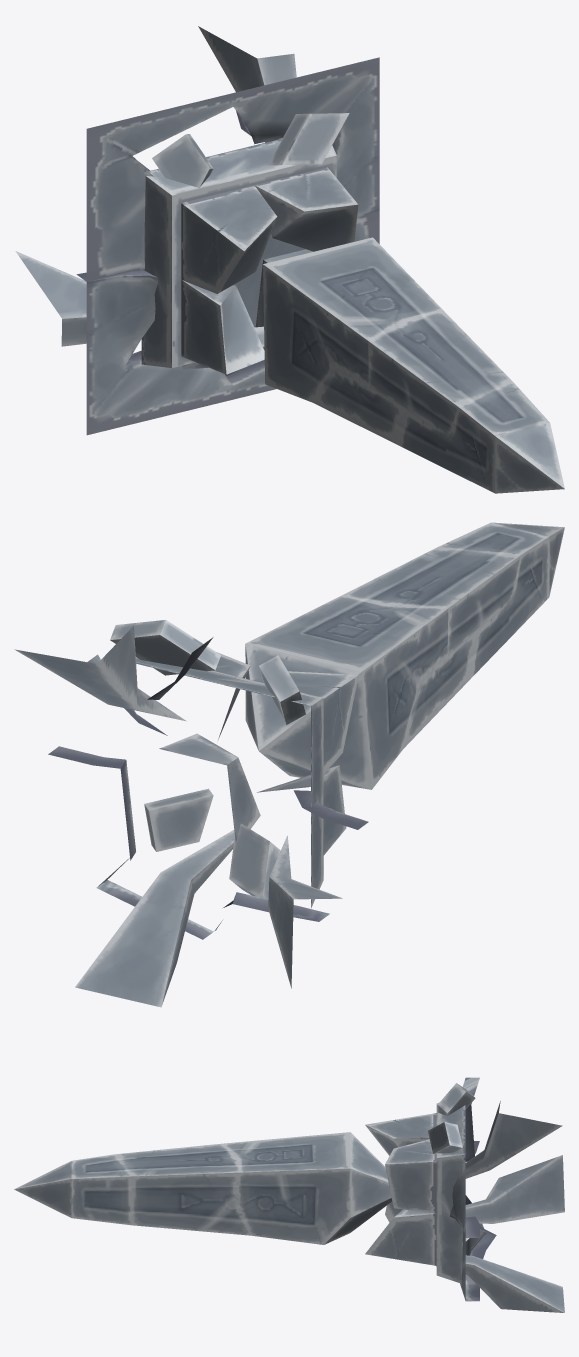
The model's file is obelisk_02.glb.
3 views of the same model, one above another, from view 1: azimuth 30°, elevation 25°; view 2: azimuth 150°, elevation 25°; view 3: azimuth 270°, elevation 25° (orthographic). The views are drawn at different scales.
Visible parts, largest first — view 1: obsidian_obelisk.obelisk_base-MeshSets[ground_broken].Mesh[0, obsidian_obelisk.obelisk-MeshNodes["obelisk"], obsidian_obelisk.obelisk_base-MeshSets[obelisk_base].Mesh[0]; view 2: obsidian_obelisk.obelisk-MeshNodes["obelisk"], obsidian_obelisk.obelisk_base-MeshSets[ground_broken].Mesh[0, obsidian_obelisk.obelisk_base-MeshSets[obelisk_base].Mesh[0]; view 3: obsidian_obelisk.obelisk-MeshNodes["obelisk"], obsidian_obelisk.obelisk_base-MeshSets[ground_broken].Mesh[0, obsidian_obelisk.obelisk_base-MeshSets[obelisk_base].Mesh[0].
Boxes of the visible parts, box(x1,y1,x2,y2) form: obsidian_obelisk.obelisk_base-MeshSets[ground_broken].Mesh[0: box(15, 26, 379, 435); obsidian_obelisk.obelisk-MeshNodes["obelisk"]: box(263, 237, 564, 493); obsidian_obelisk.obelisk_base-MeshSets[obelisk_base].Mesh[0]: box(141, 138, 358, 374); obsidian_obelisk.obelisk-MeshNodes["obelisk"]: box(245, 522, 564, 789); obsidian_obelisk.obelisk_base-MeshSets[ground_broken].Mesh[0: box(14, 620, 368, 1007); obsidian_obelisk.obelisk_base-MeshSets[obelisk_base].Mesh[0]: box(135, 652, 358, 908); obsidian_obelisk.obelisk-MeshNodes["obelisk"]: box(14, 1132, 391, 1244); obsidian_obelisk.obelisk_base-MeshSets[ground_broken].Mesh[0: box(428, 1077, 564, 1312); obsidian_obelisk.obelisk_base-MeshSets[obelisk_base].Mesh[0]: box(365, 1103, 465, 1283).
Bounding box in the file's own units: 2 × 2.03 × 4.79.
Materials: 1 (1 with a texture image).
